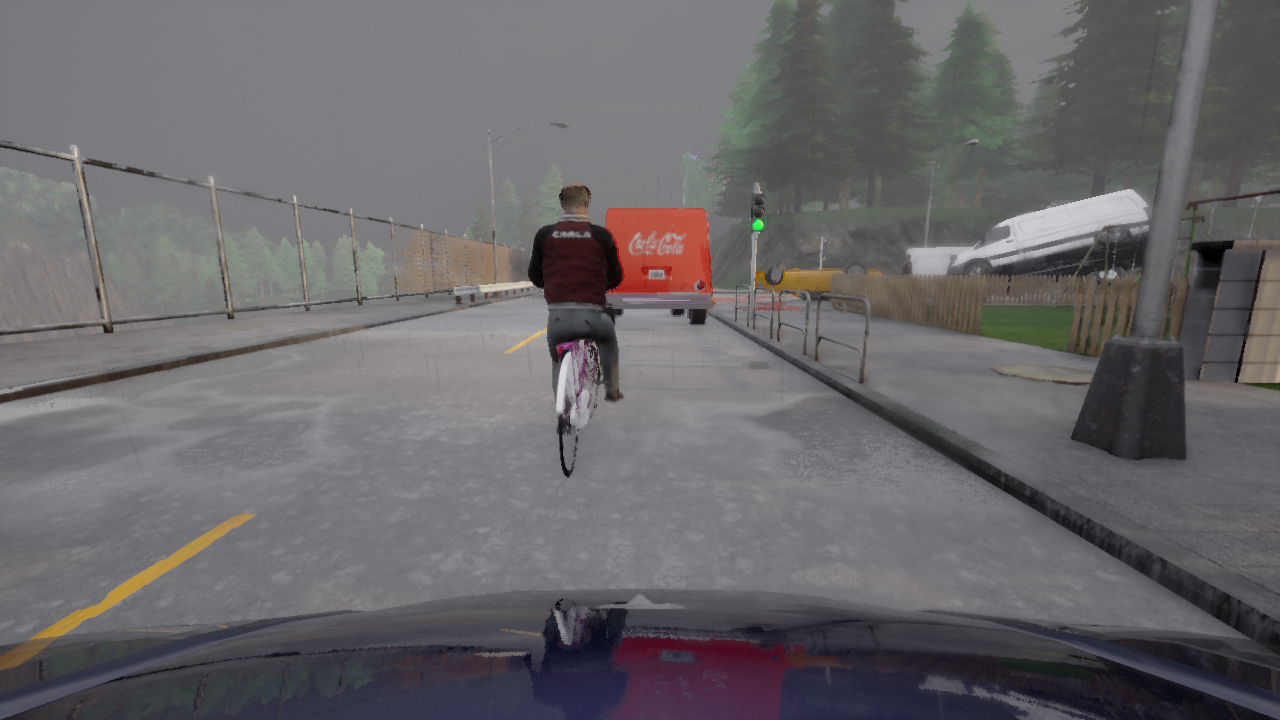cyclist: (0, 588, 1279, 719), (946, 190, 1151, 296), (602, 208, 714, 324), (555, 338, 608, 476), (904, 246, 1032, 297), (755, 261, 885, 301)
pedestrian: (902, 254, 912, 282), (1132, 268, 1141, 277)
